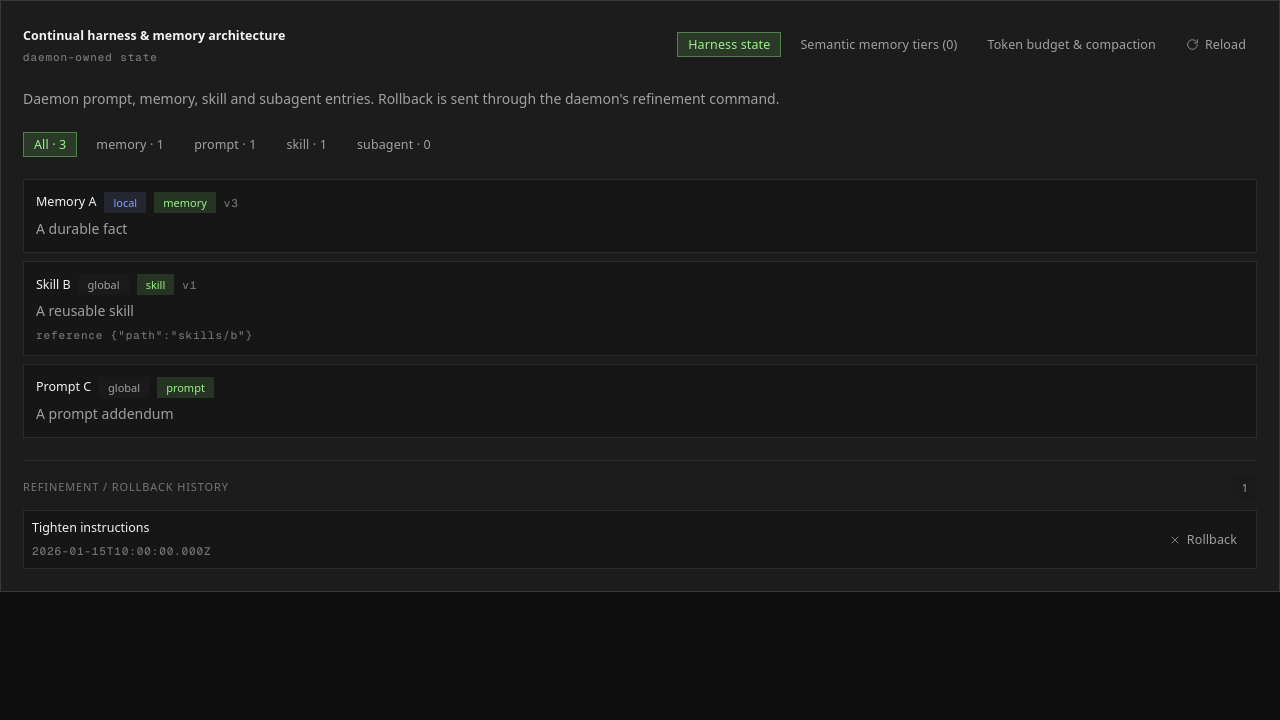
Scenario: HarnessStatePanel › filters entries by kind
Expected: the text "Memory A" is shown, x1=36 y1=194 x2=96 y2=212
Click the button "skill · 1". click: point(307, 145)
box: x1=276 y1=132 x2=338 y2=157
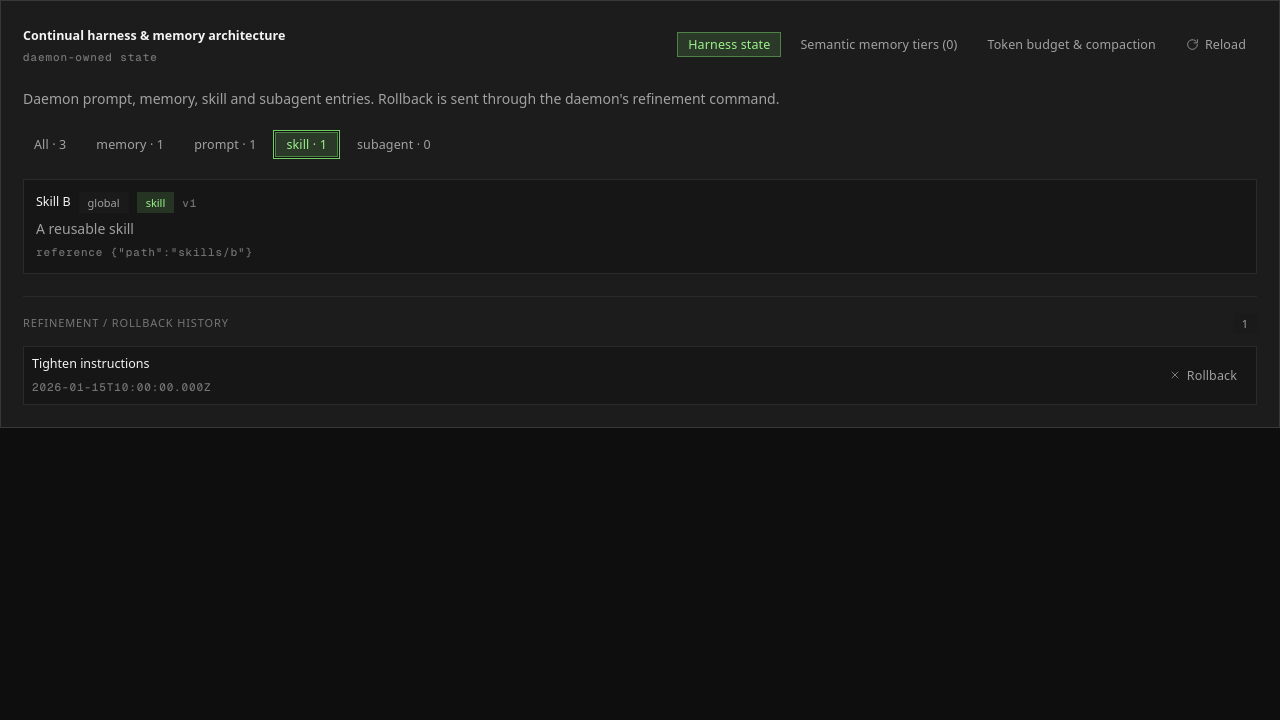
Expected: the text "Skill B" is shown, x1=36 y1=194 x2=71 y2=212
Expected: the text "Prompt C" is gone
Click the button "All · 3". click: point(50, 145)
box: x1=23 y1=132 x2=77 y2=157
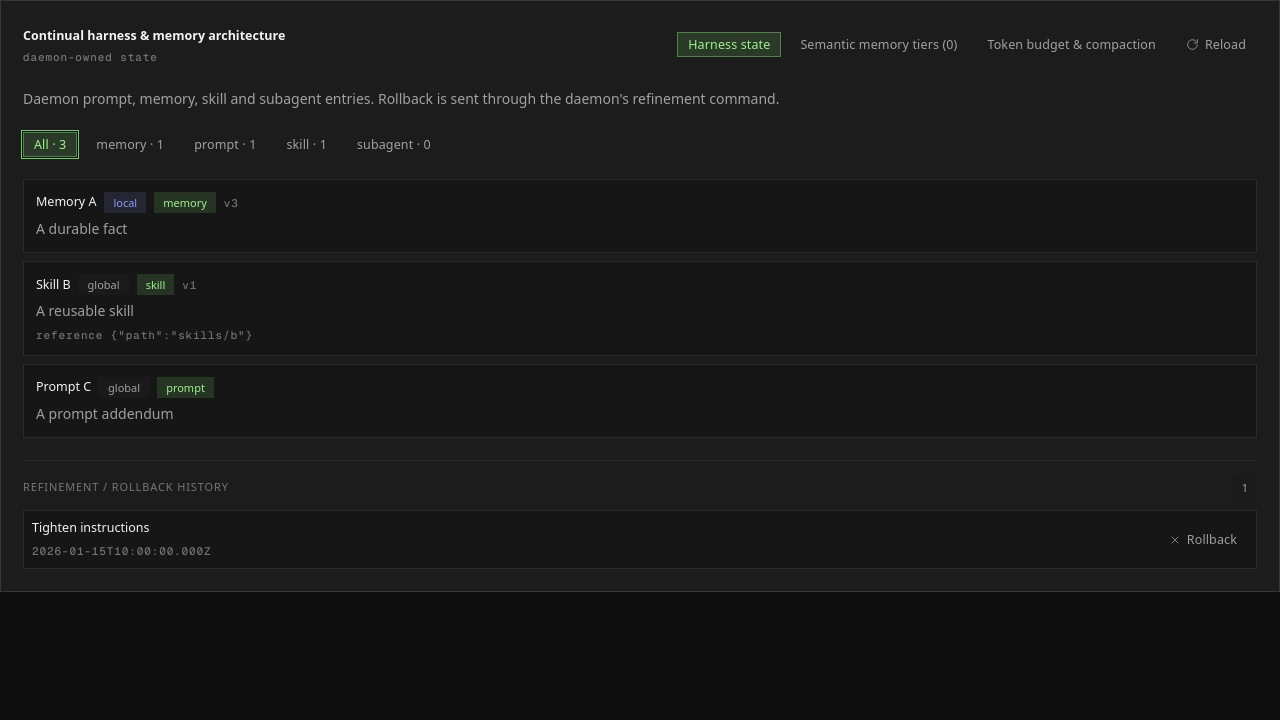
Expected: the text "Memory A" is shown, x1=36 y1=194 x2=96 y2=212
